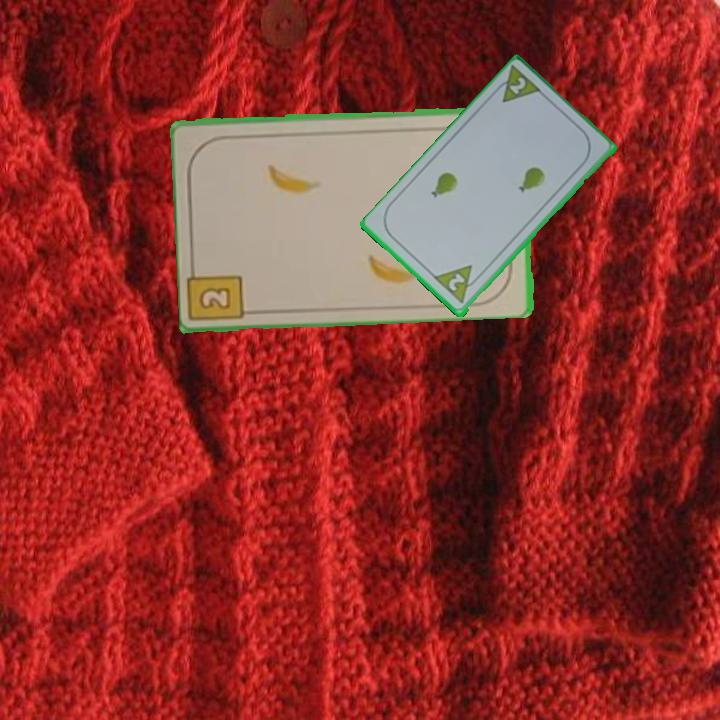2b: (195, 283, 235, 313)
2p: (489, 63, 545, 107), (444, 270, 468, 295)
